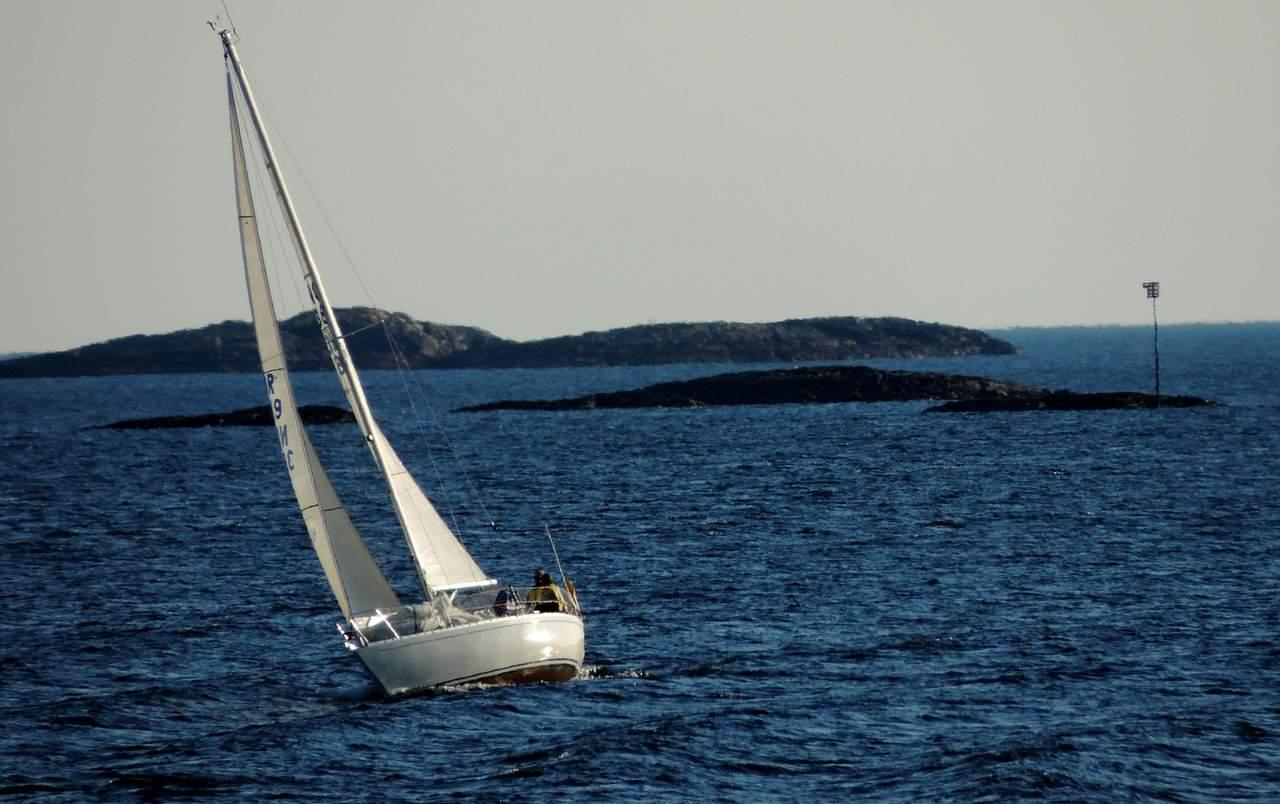Ship: (205, 12, 592, 709)
